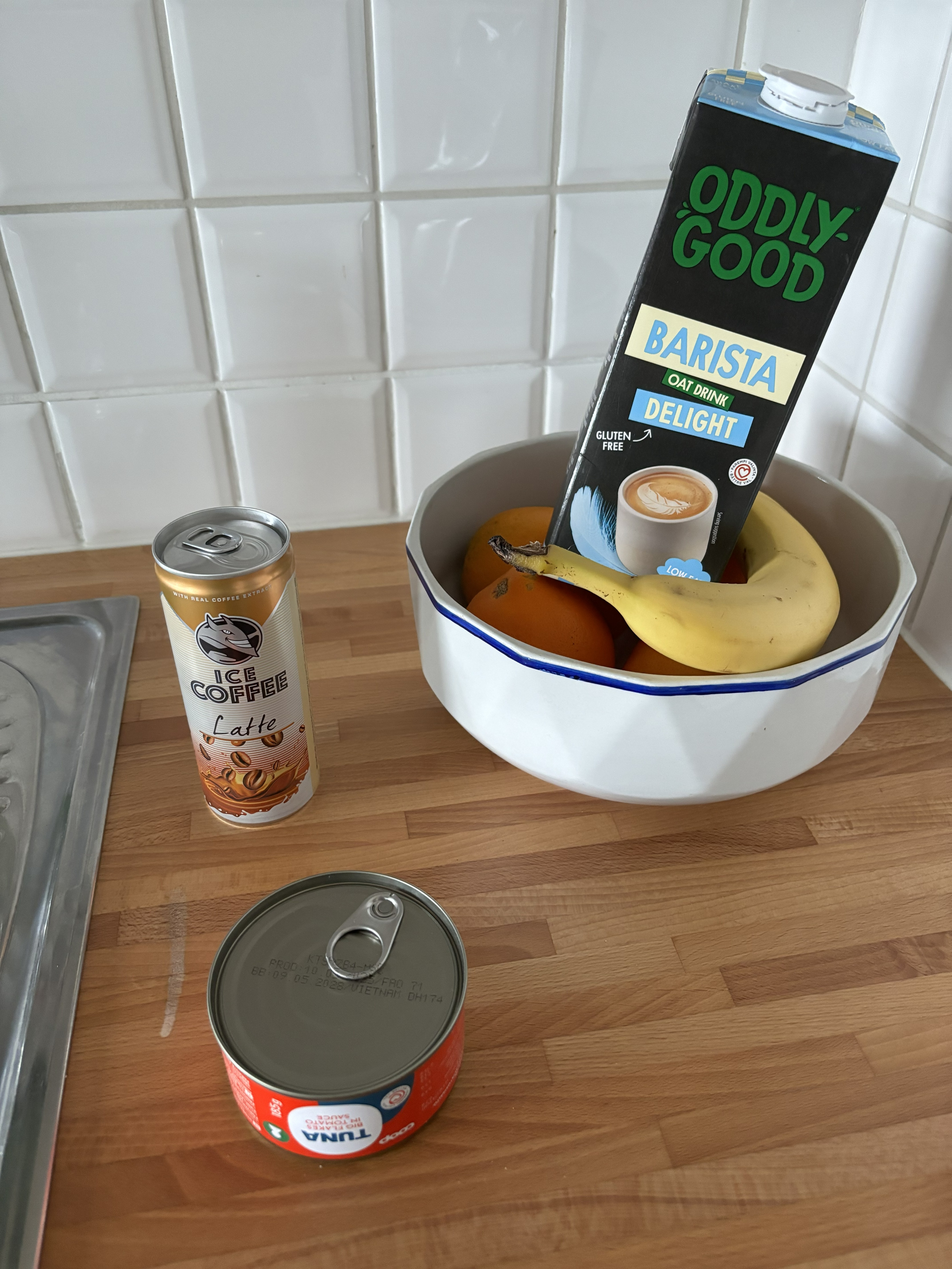Dryckeskartong: (712, 44, 920, 578)
Konservburk: (208, 864, 470, 1162)
Pantburk: (135, 516, 288, 841)
